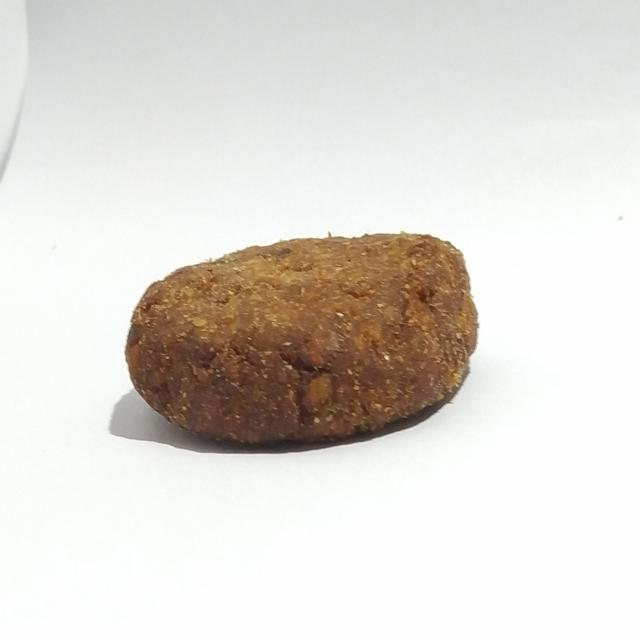Pajagua: (117, 222, 485, 459)
